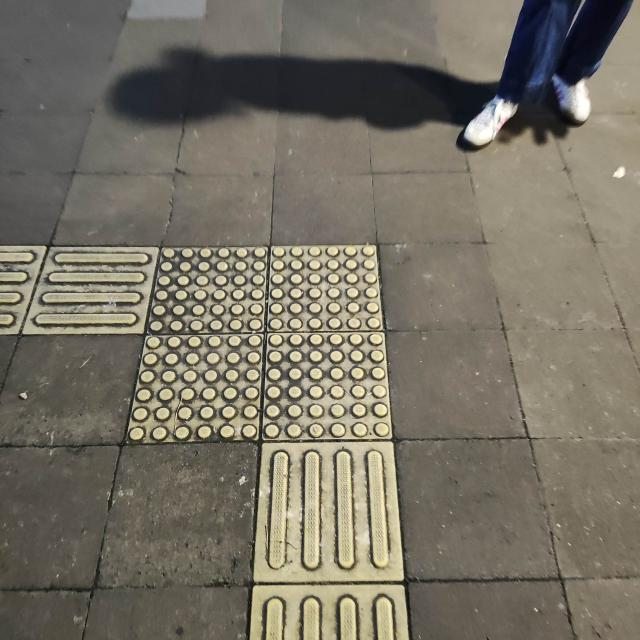kiri: (5, 203, 462, 570)
